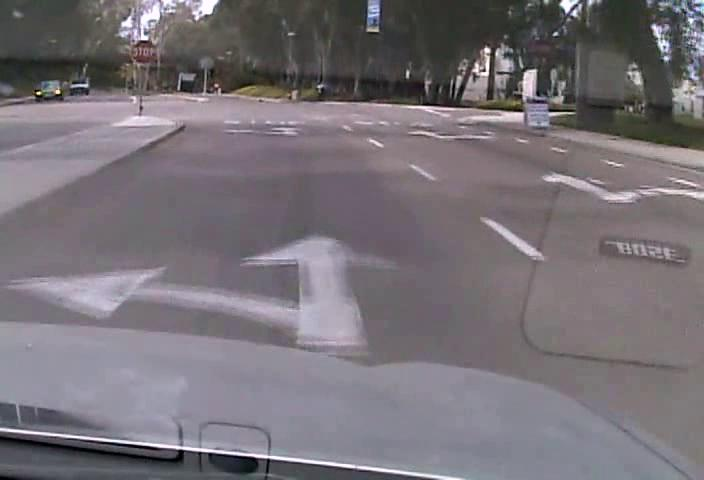stop: (131, 38, 157, 63)
